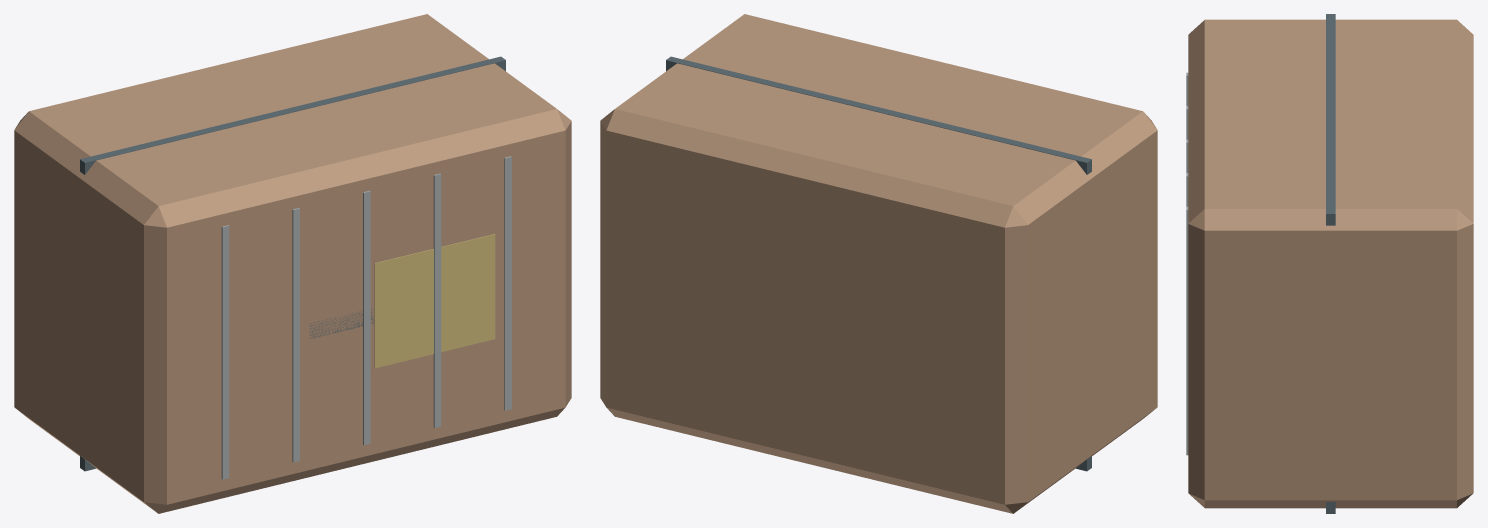
3 views of the same model, side by side, from view 1: azimuth 30°, elevation 25°; view 2: azimuth 150°, elevation 25°; view 3: azimuth 270°, elevation 25° (orthographic). The views are drawn at different scales.
Visible parts, largest first — view 1: case, fragile_label, zipper_band, rib_-0.21120000000000003, rib_0.1056, rib_0.21120000000000003, rib_-0.10560000000000001, rib_0.0; view 2: case, zipper_band; view 3: case, zipper_band, rib_0.21120000000000003.
Part boxes in pixels (x1=…): case: x1=14, y1=14, x2=571, y2=513; fragile_label: x1=374, y1=234, x2=495, y2=368; zipper_band: x1=80, y1=56, x2=505, y2=471; rib_-0.21120000000000003: x1=221, y1=225, x2=229, y2=479; rib_0.1056: x1=433, y1=173, x2=441, y2=427; rib_0.21120000000000003: x1=504, y1=156, x2=511, y2=410; rib_-0.10560000000000001: x1=292, y1=208, x2=299, y2=462; rib_0.0: x1=363, y1=190, x2=370, y2=445; case: x1=600, y1=14, x2=1157, y2=513; zipper_band: x1=666, y1=56, x2=1091, y2=471; case: x1=1188, y1=19, x2=1473, y2=508; zipper_band: x1=1326, y1=14, x2=1335, y2=513; rib_0.21120000000000003: x1=1186, y1=206, x2=1188, y2=455.
Size of the model in its own units: 0.64 by 0.441 by 0.3825.
